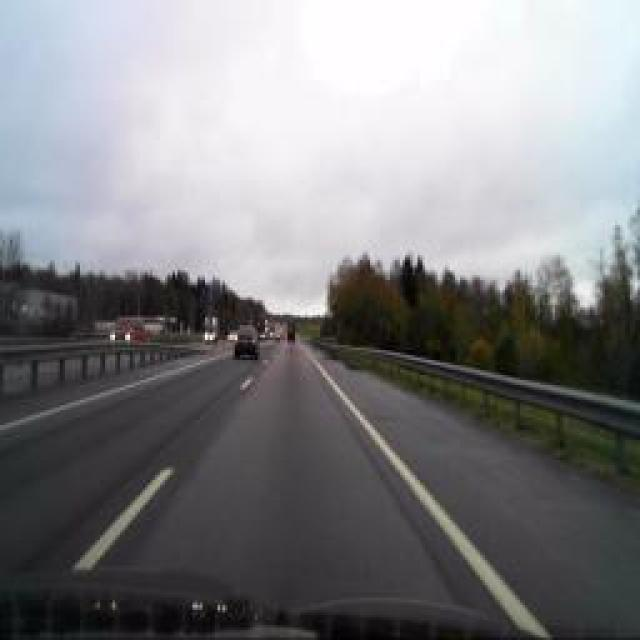sign: (205, 286, 215, 304)
